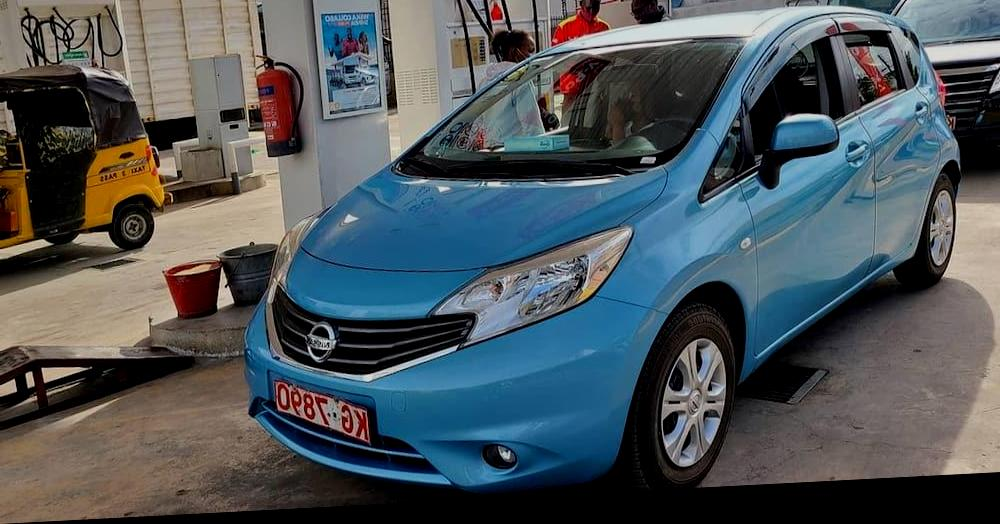License_Plate: (265, 368, 387, 457)
